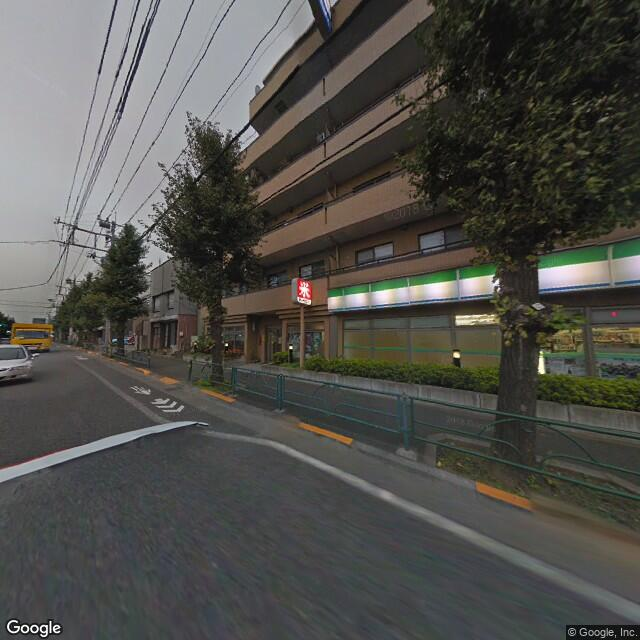family_mart: (328, 235, 638, 315)
